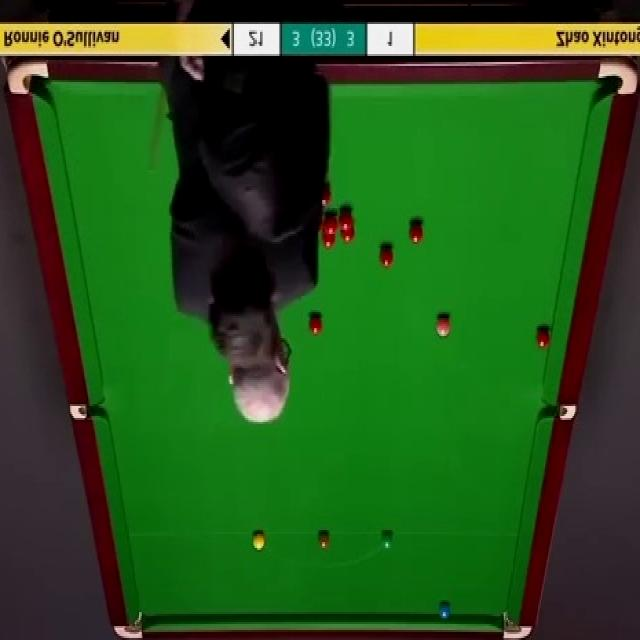pocket: (5, 57, 51, 97), (595, 60, 636, 97), (500, 608, 534, 640), (111, 611, 145, 640), (541, 403, 575, 422), (68, 403, 104, 419)
